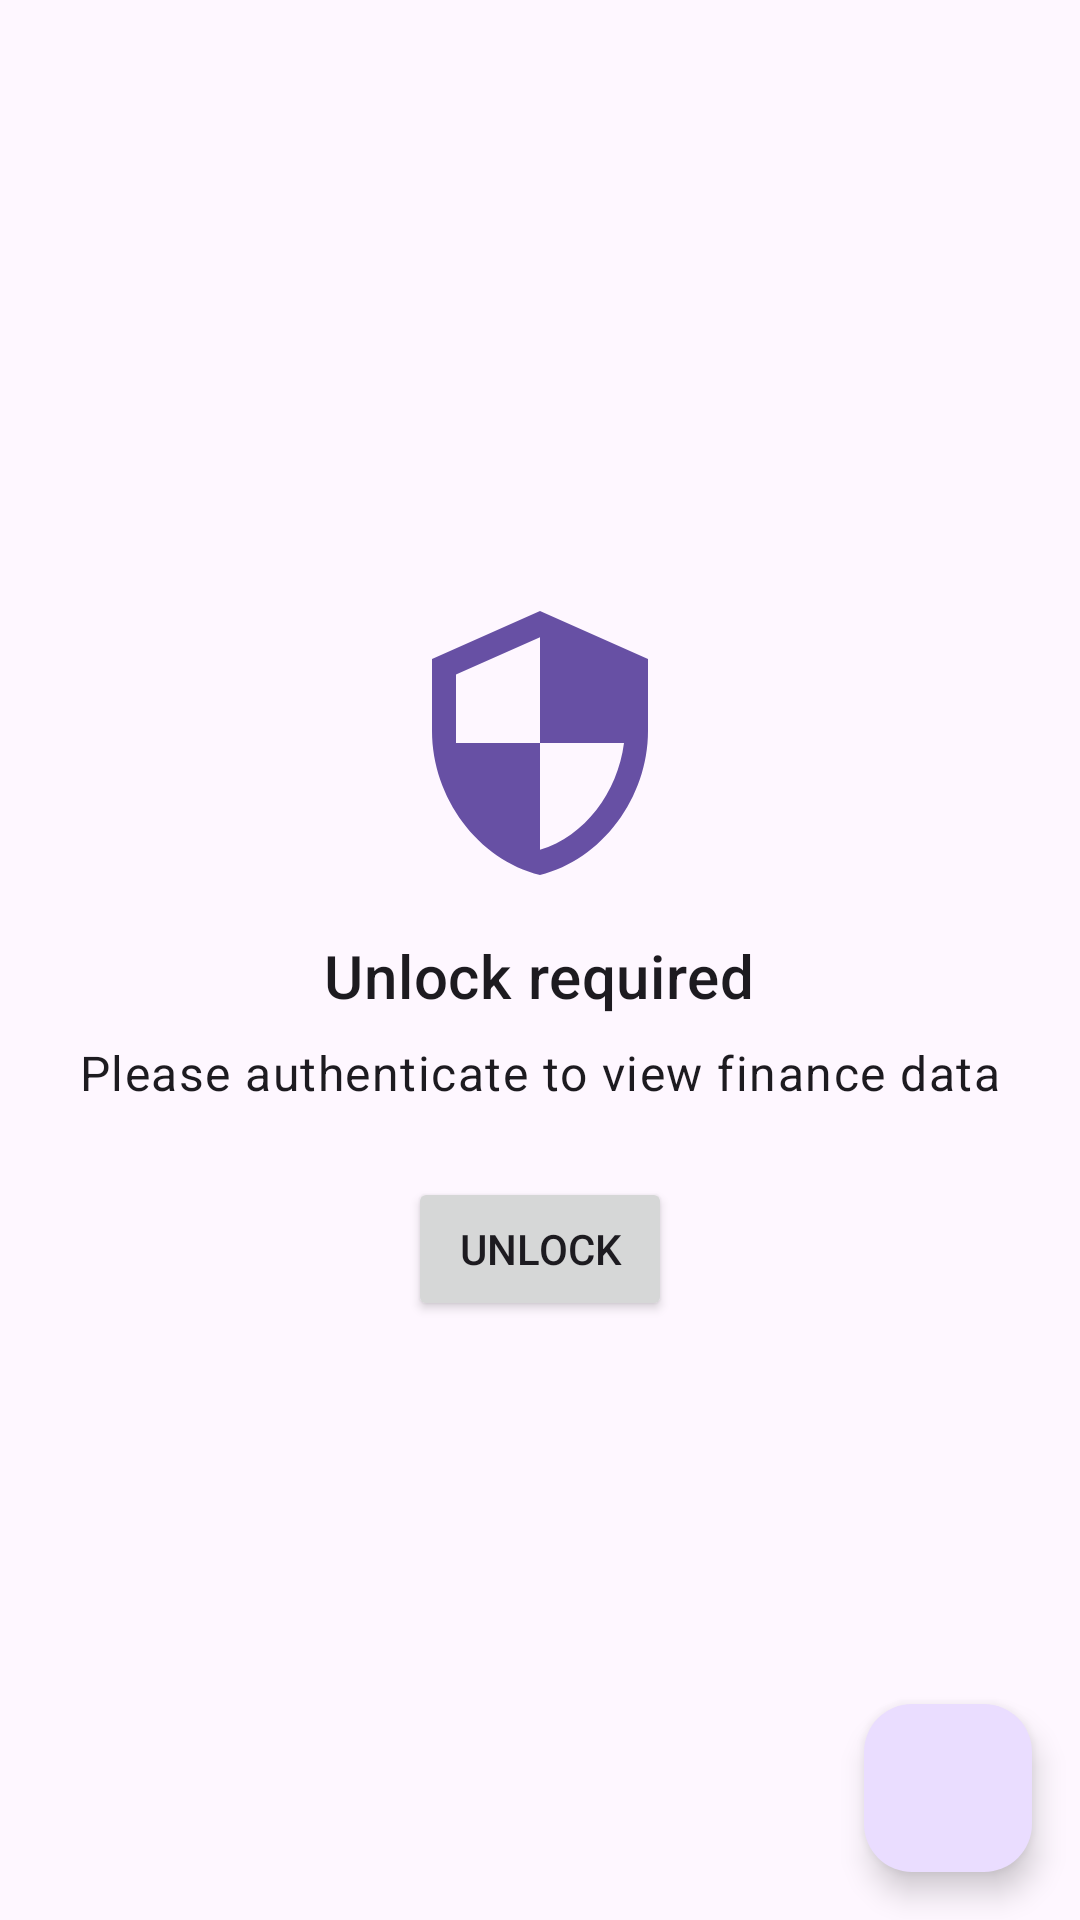

Named icons in this screenshot (1080*1920) and their centers, [x,y]:
Security Lock: [540,743]
